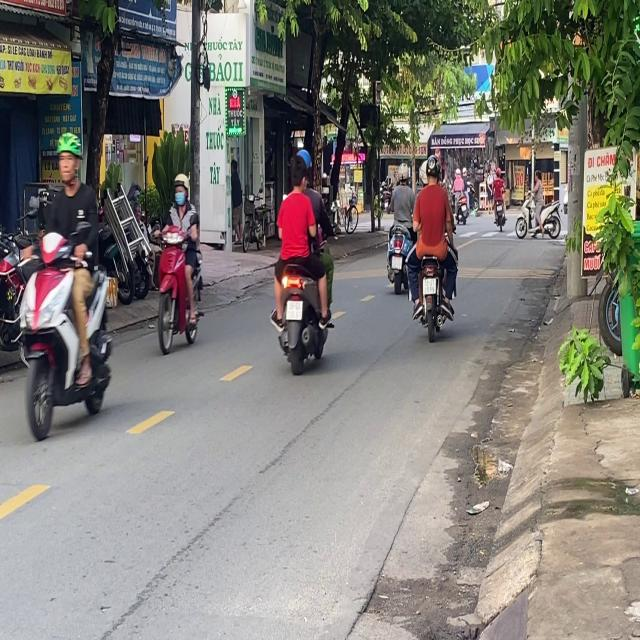helmet: (56, 131, 84, 188), (423, 151, 440, 183), (172, 172, 188, 205), (296, 148, 312, 173)
licenseplate: (16, 130, 116, 438), (269, 145, 335, 373), (152, 170, 205, 352), (409, 148, 458, 340)
motorcyclist: (289, 156, 308, 196)
nohelmet: (286, 300, 302, 319), (423, 278, 436, 294)
